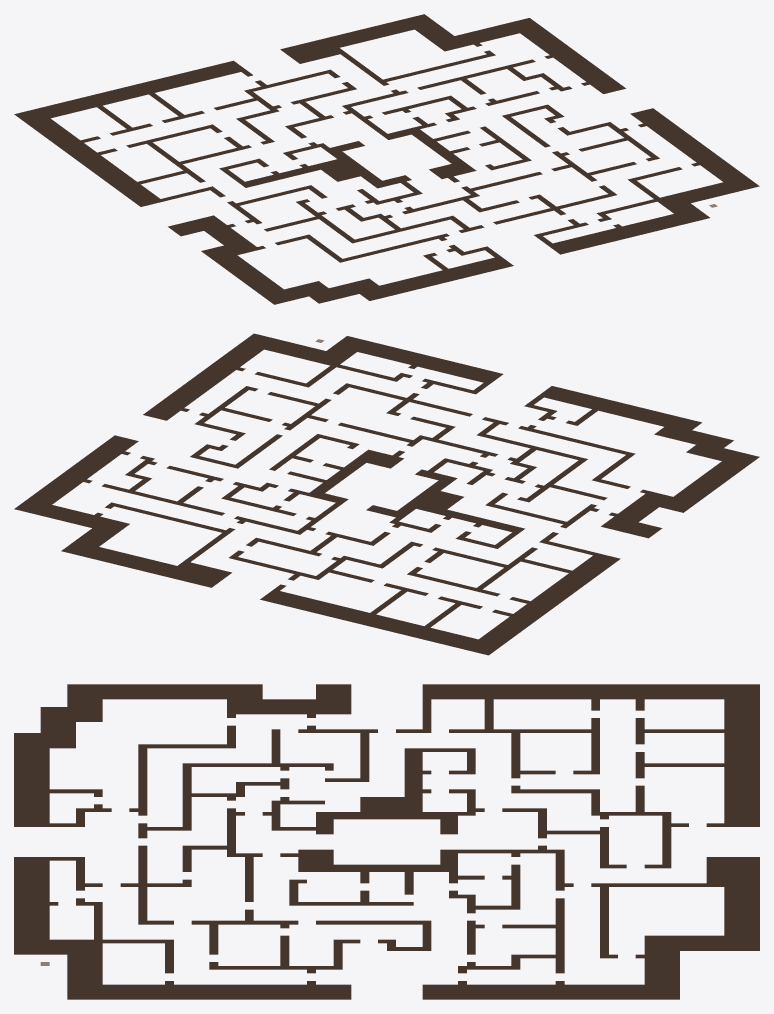
The model's file is WallCollisions.fbx.
3 renders of one model, top to bottom at view 1: azimuth 30°, elevation 25°; view 2: azimuth 150°, elevation 25°; view 3: azimuth 270°, elevation 25°, orthographic. The views are drawn at different scales.
Parts seen in each view (by area): view 1: Walls; view 2: Walls; view 3: Walls.
Boxes of the visible parts, x1=… form: Walls: x1=14, y1=14, x2=759, y2=304; Walls: x1=14, y1=333, x2=759, y2=655; Walls: x1=14, y1=684, x2=759, y2=999.
Bounding box in the file's own units: 4200 × 0.000684 × 4200.
